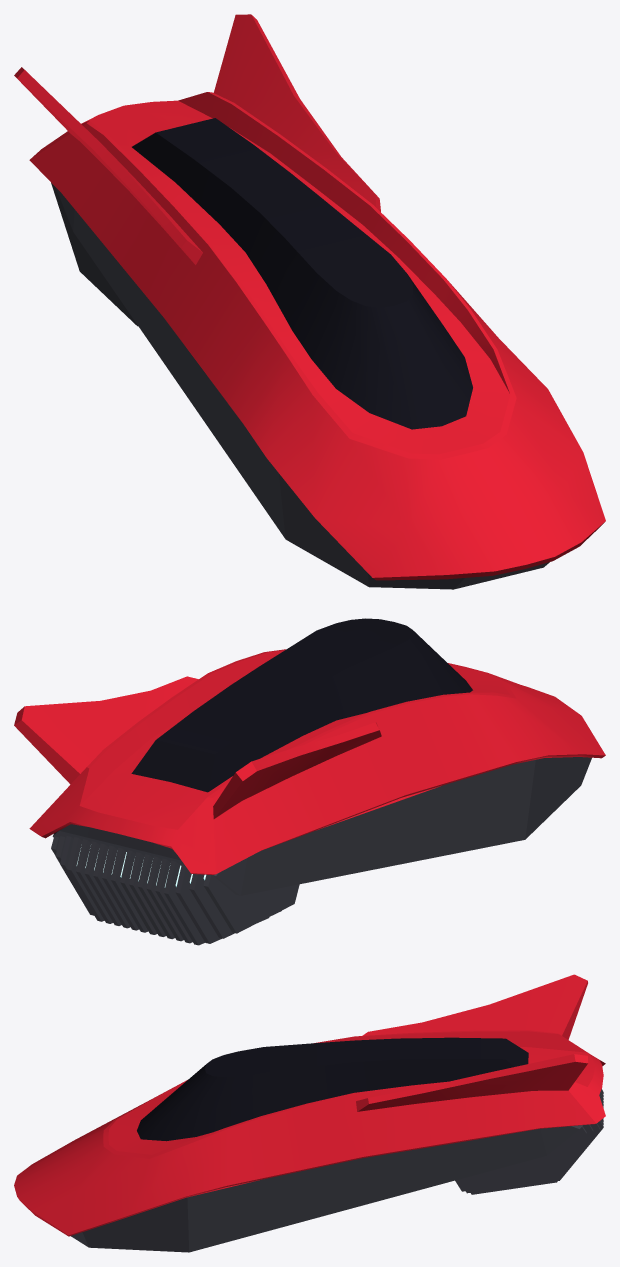
Rendered from Hovercar.fbx.
3 renders of one model, top to bottom at view 1: azimuth 30°, elevation 25°; view 2: azimuth 150°, elevation 25°; view 3: azimuth 270°, elevation 25°, orthographic. The views are drawn at different scales.
Visible parts, largest first — view 1: Cube; view 2: Cube; view 3: Cube.
Boxes of the visible parts, x1,y1,x2,y2 form: Cube: (14, 14, 605, 589); Cube: (14, 618, 605, 945); Cube: (14, 974, 605, 1252).
Size of the model in its own units: 196 by 181 by 496.
